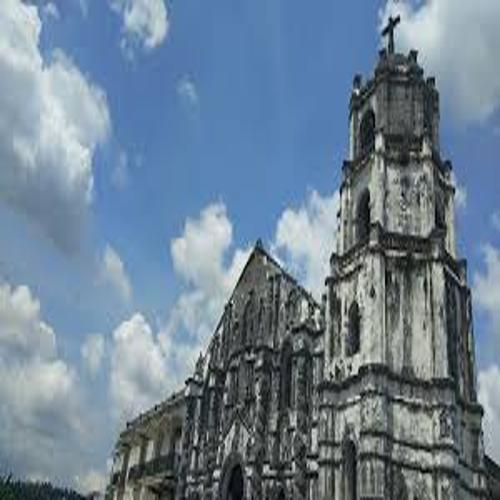Daraga Church: (184, 9, 489, 500)
